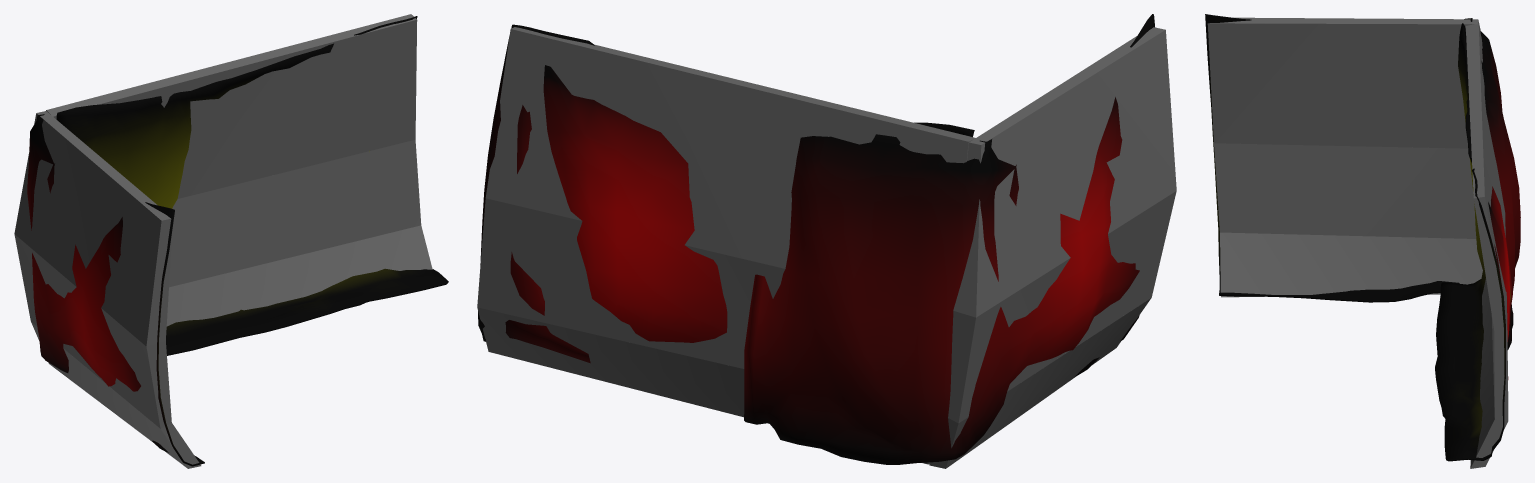
Rendered from Tent_03_Mesh.fbx.
The picture shows the model from 3 angles, left to right: view 1: azimuth 30°, elevation 25°; view 2: azimuth 150°, elevation 25°; view 3: azimuth 270°, elevation 25°; orthographic projection. The views are drawn at different scales.
Visible parts, largest first — view 1: Tent_03, Tent_03_LOD0; view 2: Tent_03, Tent_03_LOD0; view 3: Tent_03, Tent_03_LOD0.
Part boxes in pixels (box(x1,y1,x2,y2)): Tent_03: box(14, 14, 432, 468); Tent_03_LOD0: box(27, 16, 448, 466); Tent_03: box(477, 27, 1176, 468); Tent_03_LOD0: box(478, 14, 1154, 464); Tent_03: box(1207, 17, 1508, 468); Tent_03_LOD0: box(1205, 14, 1520, 461).
Size of the model in its own units: 37231 by 24524 by 22817.
